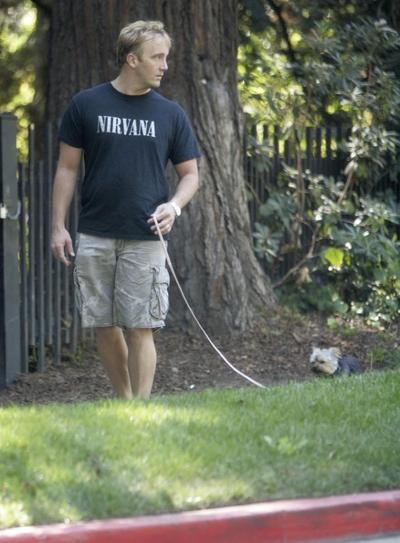person: (52, 20, 200, 396)
